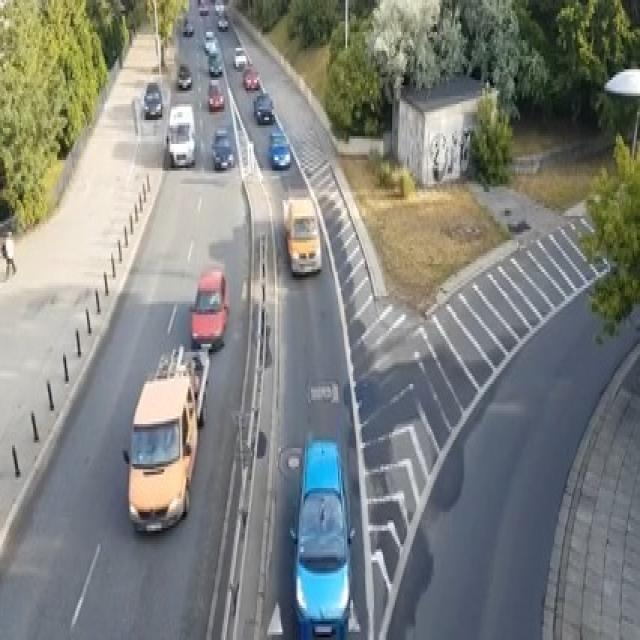car: (122, 374, 198, 534), (281, 194, 321, 274), (190, 267, 228, 349), (210, 128, 233, 171), (267, 128, 290, 168), (252, 90, 274, 122), (143, 80, 162, 117), (207, 80, 224, 109), (242, 66, 260, 90), (208, 48, 222, 75), (177, 64, 191, 88), (233, 45, 246, 67), (204, 29, 215, 51), (182, 16, 194, 35), (216, 13, 228, 30), (198, 0, 208, 13), (213, 0, 223, 13)
truck: (166, 104, 196, 165)
